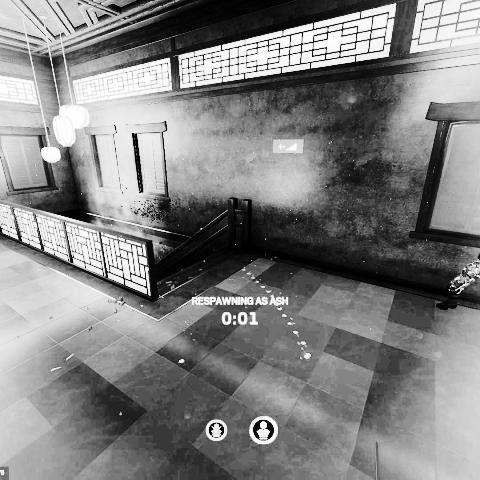Character: (434, 254, 480, 312)
